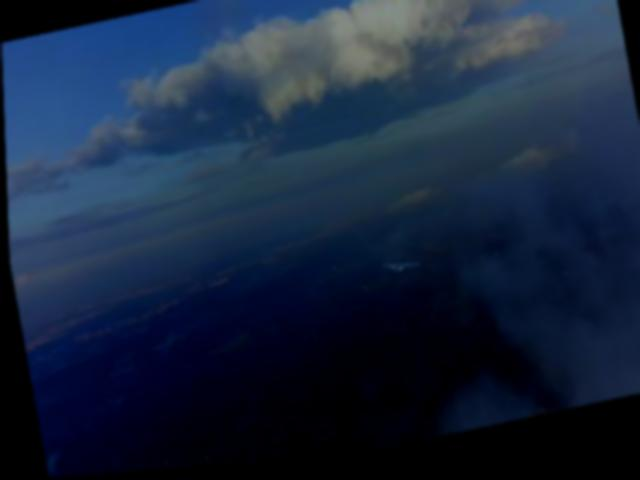uav: (378, 255, 425, 284)
